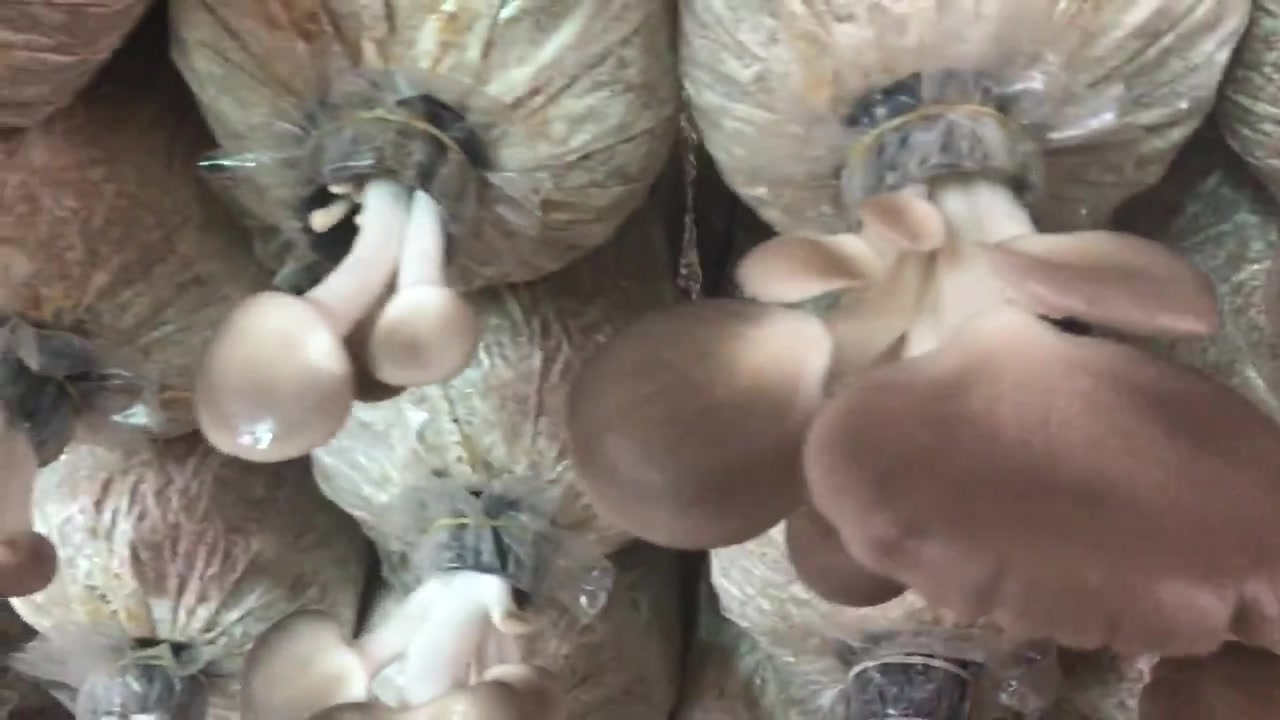nam: (568, 99, 1280, 660), (199, 99, 485, 460), (246, 530, 568, 720), (5, 352, 70, 595)
